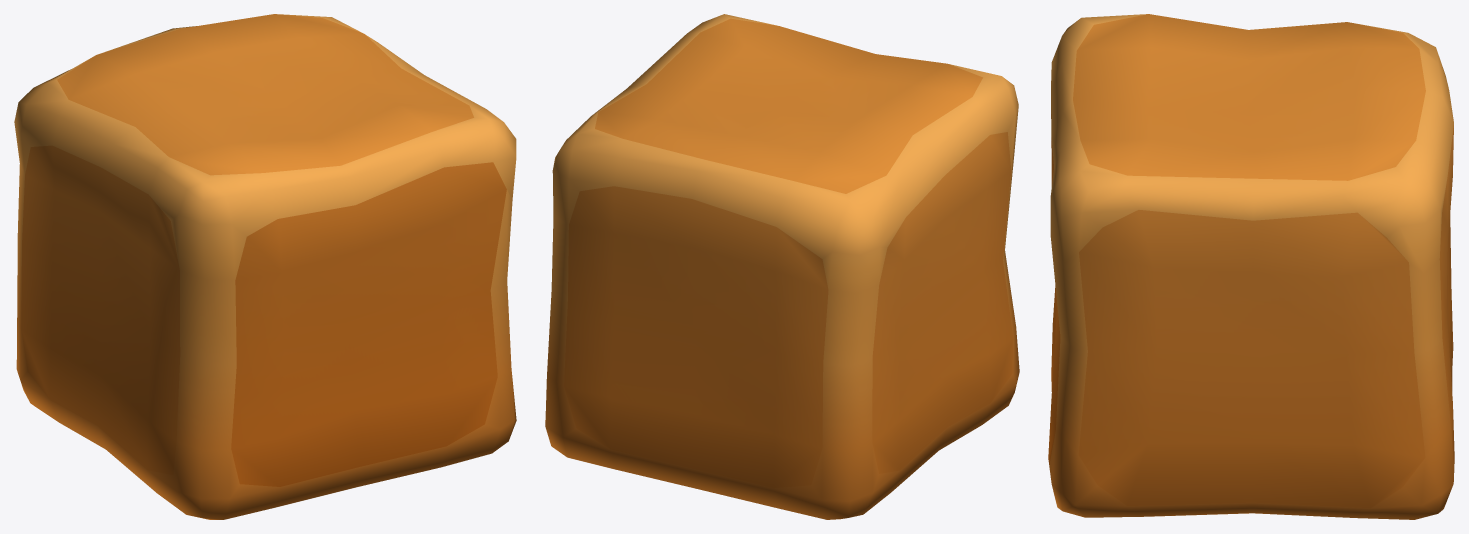
Rendered from Caramel_01.fbx.
3 views of the same model, side by side, from view 1: azimuth 30°, elevation 25°; view 2: azimuth 150°, elevation 25°; view 3: azimuth 270°, elevation 25° (orthographic). The views are drawn at different scales.
Parts seen in each view (by area): view 1: Caramel_01; view 2: Caramel_01; view 3: Caramel_01.
Boxes of the visible parts, x1,y1,x2,y2 form: Caramel_01: (14, 14, 516, 519); Caramel_01: (545, 14, 1019, 519); Caramel_01: (1048, 14, 1454, 519).
Bounding box in the file's own units: 214 × 208 × 210.
